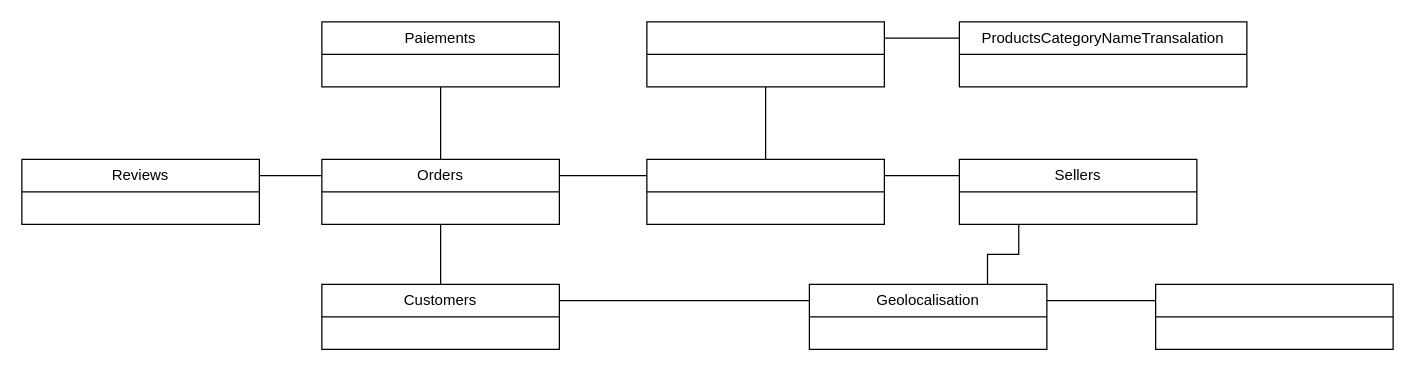
The diagram is 1415 pixels wide and 371 high, and some of its shapes have lost their labels. Here are the shapes that lost their labels. From the top down, the centre of each, then its label:
At (x=765, y=54): "Products".
At (x=765, y=191): "OrdersItems".
At (x=1273, y=316): "StatesName".
